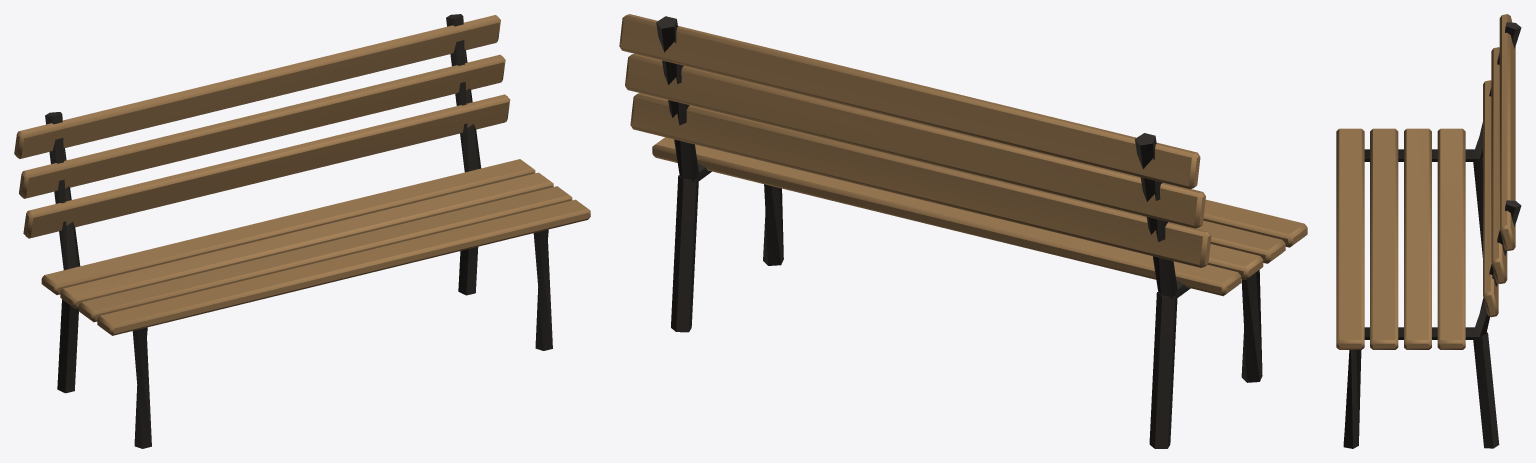
File: park_bench.glb
The picture shows the model from 3 angles, left to right: view 1: azimuth 30°, elevation 25°; view 2: azimuth 150°, elevation 25°; view 3: azimuth 270°, elevation 25°; orthographic projection. The views are drawn at different scales.
Parts seen in each view (by area): view 1: park_bench_mesh; view 2: park_bench_mesh; view 3: park_bench_mesh.
Boxes of the visible parts, x1,y1,x2,y2 form: park_bench_mesh: (14,14,590,448); park_bench_mesh: (619,14,1307,448); park_bench_mesh: (1336,14,1521,448).
Size of the model in its own units: 1.8 by 0.9578 by 0.6592.
